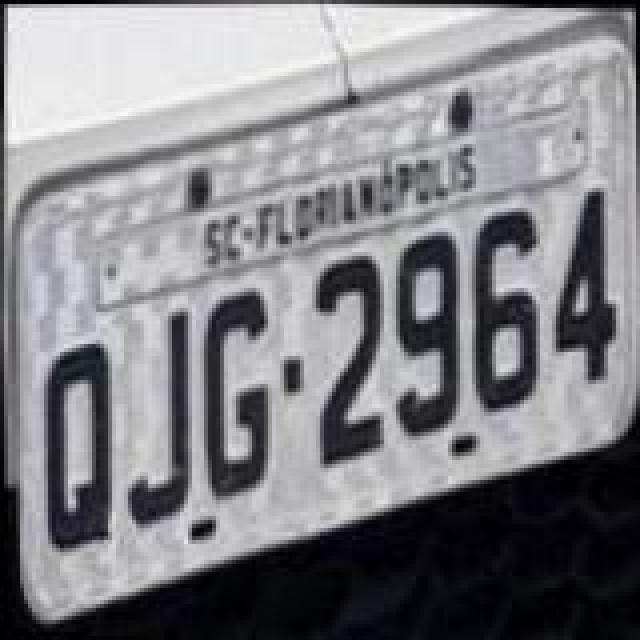2: (304, 252, 388, 472)
4: (548, 188, 624, 388)
6: (466, 204, 546, 416)
9: (388, 230, 464, 442)
G: (196, 290, 276, 502)
J: (118, 306, 194, 530)
Q: (36, 340, 116, 556)
